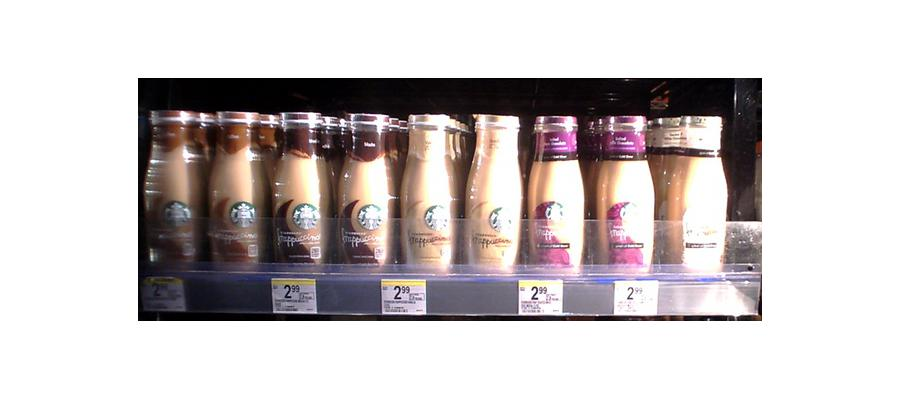bottle: (656, 114, 732, 278), (143, 102, 204, 291), (331, 112, 399, 273), (590, 113, 656, 275), (267, 110, 330, 270), (462, 114, 524, 276), (205, 111, 267, 272), (400, 112, 461, 275), (525, 113, 587, 273)
